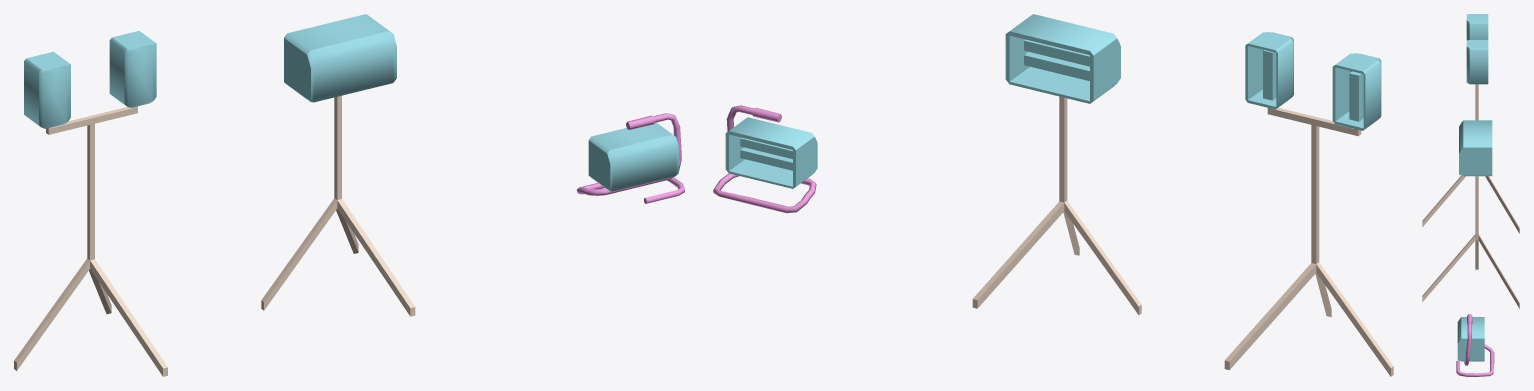
The model's file is Focos.fbx.
3 views of the same model, side by side, from view 1: azimuth 30°, elevation 25°; view 2: azimuth 150°, elevation 25°; view 3: azimuth 270°, elevation 25° (orthographic). The views are drawn at different scales.
Visible parts, largest first — view 1: caja_luz, caja_luz2, caja_luz003, Soport2, Soporte, soporte3; view 2: caja_luz, caja_luz2, caja_luz003, Soport2, Soporte, soporte3; view 3: caja_luz, caja_luz2, Soporte, caja_luz003, Soport2, soporte3.
Boxes of the visible parts, box(x1,y1,x2,y2) form: caja_luz: box(284, 14, 396, 102); caja_luz2: box(24, 31, 156, 128); caja_luz003: box(588, 122, 678, 191); Soport2: box(14, 106, 167, 376); Soporte: box(261, 95, 415, 316); soporte3: box(576, 113, 684, 203); caja_luz: box(1005, 14, 1120, 103); caja_luz2: box(1245, 32, 1381, 130); caja_luz003: box(725, 117, 817, 188); Soport2: box(1224, 107, 1393, 376); Soporte: box(972, 96, 1141, 314); soporte3: box(713, 105, 816, 213); caja_luz: box(1459, 120, 1492, 176); caja_luz2: box(1466, 14, 1488, 84); Soporte: box(1422, 176, 1519, 308); caja_luz003: box(1457, 317, 1484, 361); Soport2: box(1422, 84, 1519, 233); soporte3: box(1456, 314, 1494, 376).
Size of the model in its own units: 10000 by 4352 by 2057.
